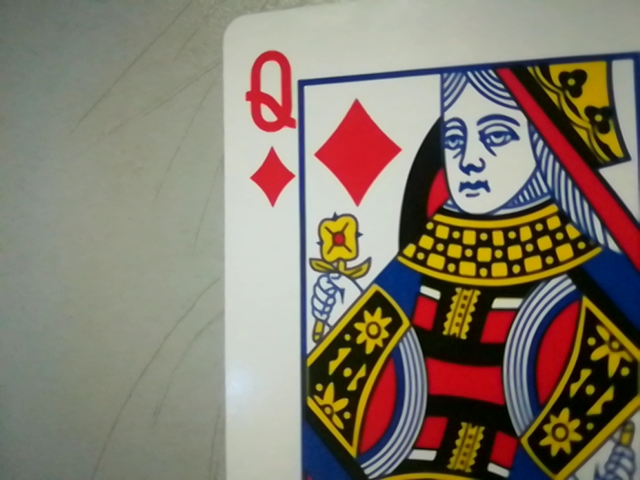fk q: (238, 41, 304, 207)
